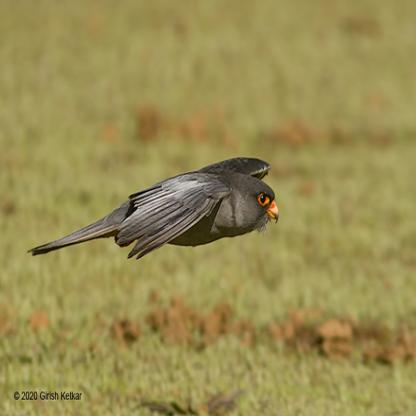Burung: (23, 155, 279, 262)
